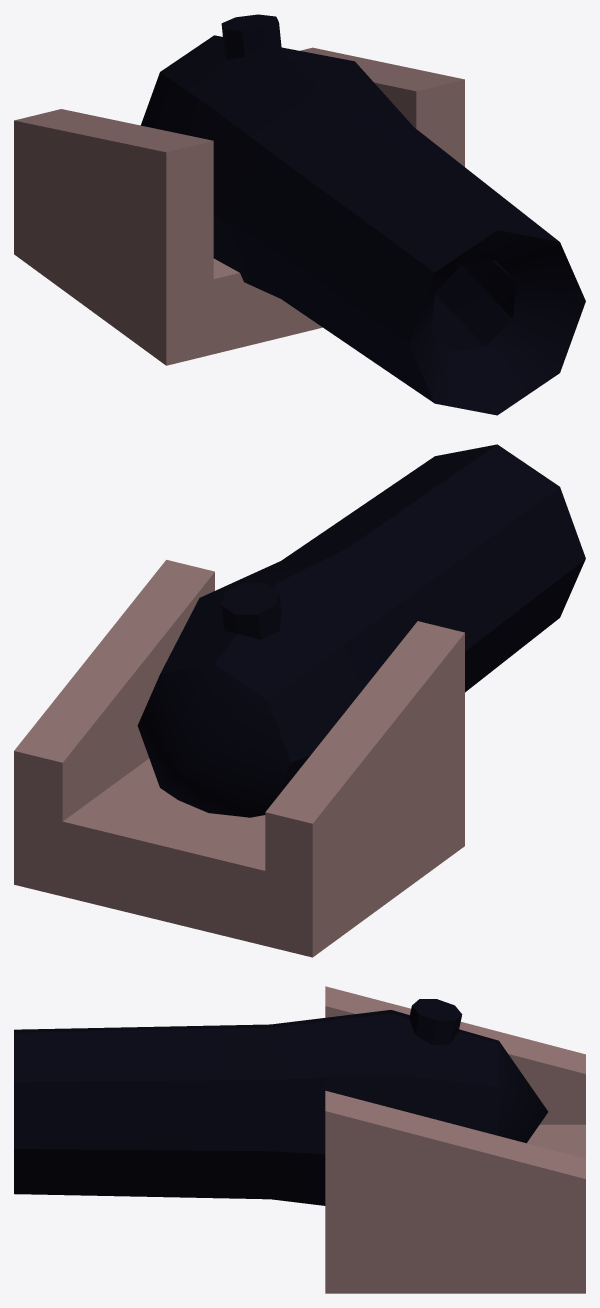
The model's file is CannonBase.fbx.
3 renders of one model, top to bottom at view 1: azimuth 30°, elevation 25°; view 2: azimuth 150°, elevation 25°; view 3: azimuth 270°, elevation 25°, orthographic. The views are drawn at different scales.
Visible parts, largest first — view 1: pPipe2, pCube1; view 2: pCube1, pPipe2; view 3: pPipe2, pCube1.
Part boxes in pixels (<box>): pPipe2: <box>140,14,585,415</box>; pCube1: <box>14,47,464,365</box>; pCube1: <box>14,559,464,957</box>; pPipe2: <box>137,444,585,817</box>; pPipe2: <box>14,999,548,1205</box>; pCube1: <box>325,986,585,1293</box>.
Size of the model in its own units: 0.2565 by 0.2165 by 0.4968.
